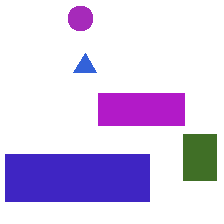circle: (68, 6, 92, 30)
rectangle: (5, 154, 149, 201), (98, 93, 184, 125), (183, 134, 216, 180)
triangle: (73, 53, 96, 72)
